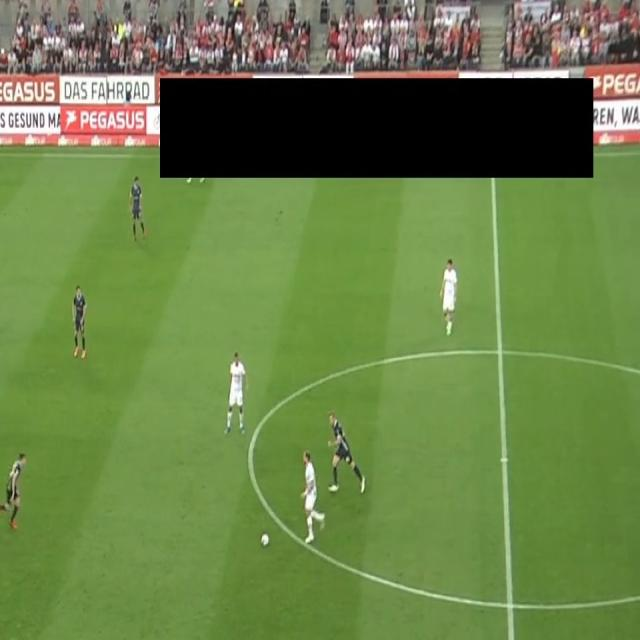ball: (260, 532, 271, 550)
